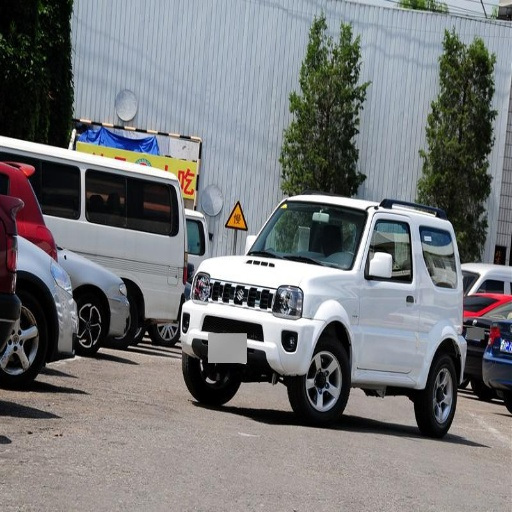front_bumper: (183, 303, 318, 373)
front_glass: (249, 203, 366, 268)
front_left_door: (357, 213, 413, 370)
trunk: (428, 288, 468, 368)
